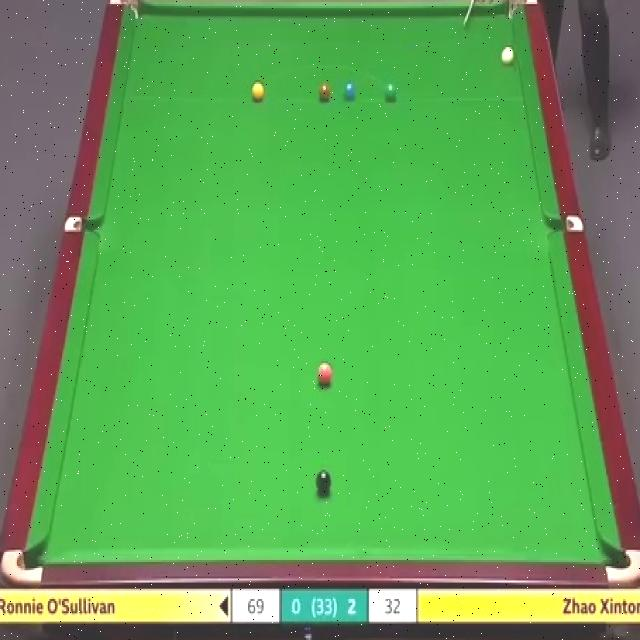black-ball: (316, 469, 332, 495)
brown-ball: (318, 84, 331, 101)
green-ball: (384, 80, 398, 104)
pink-ball: (316, 360, 333, 390)
white-ball: (500, 46, 516, 66)
yellow-ball: (251, 81, 265, 102)
